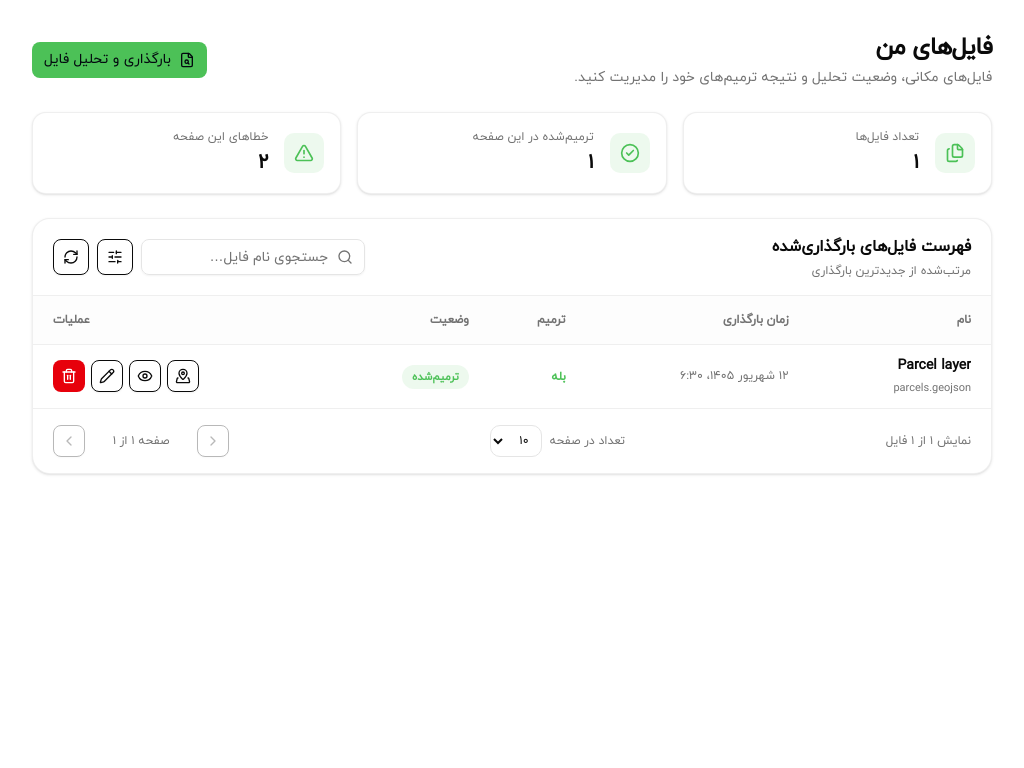
Scenario: FileManagementDashboard › shows a filtered empty state and clears the filters
Click the button named "فیلتر فایل‌ها" at (115, 257), box [97,239,133,275]
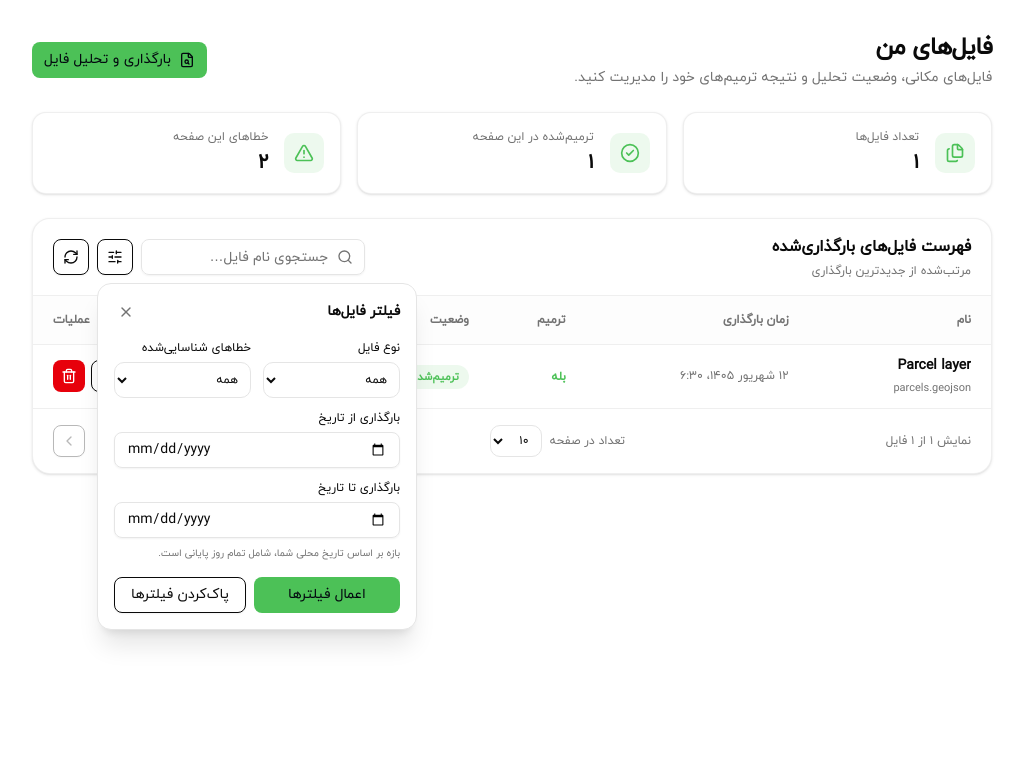
Select "KML" in the dropdown labelled "نوع فایل" at (332, 380), box [263,362,400,398]
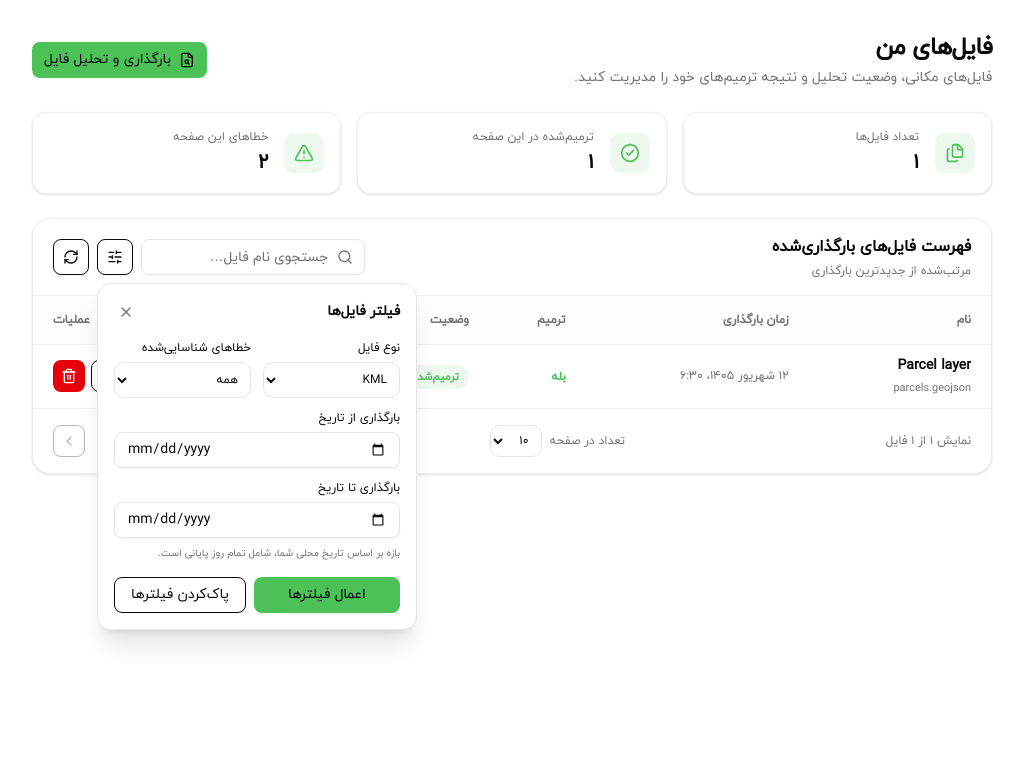
Click the button "اعمال فیلترها" at (327, 595), box [254,577,400,613]
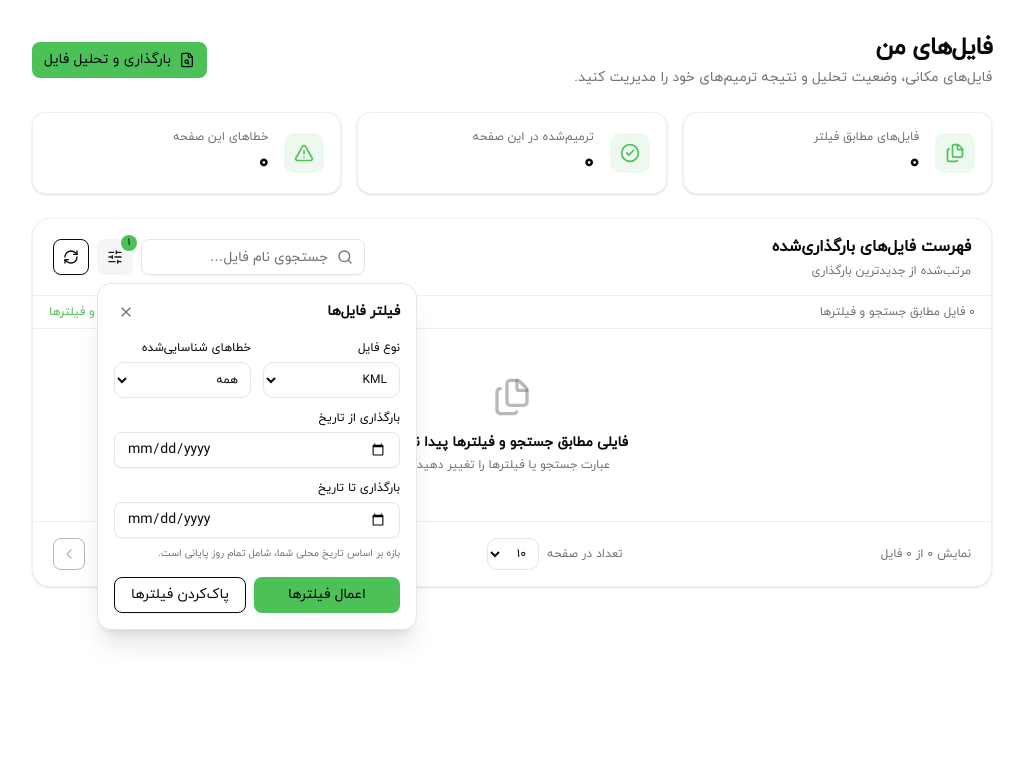
Result: the heading "فایلی مطابق جستجو و فیلترها پیدا نشد" is shown at [396,433,628,452]
Click the button "پاک‌کردن جستجو و فیلترها" at (116, 312), box [49,304,183,320]
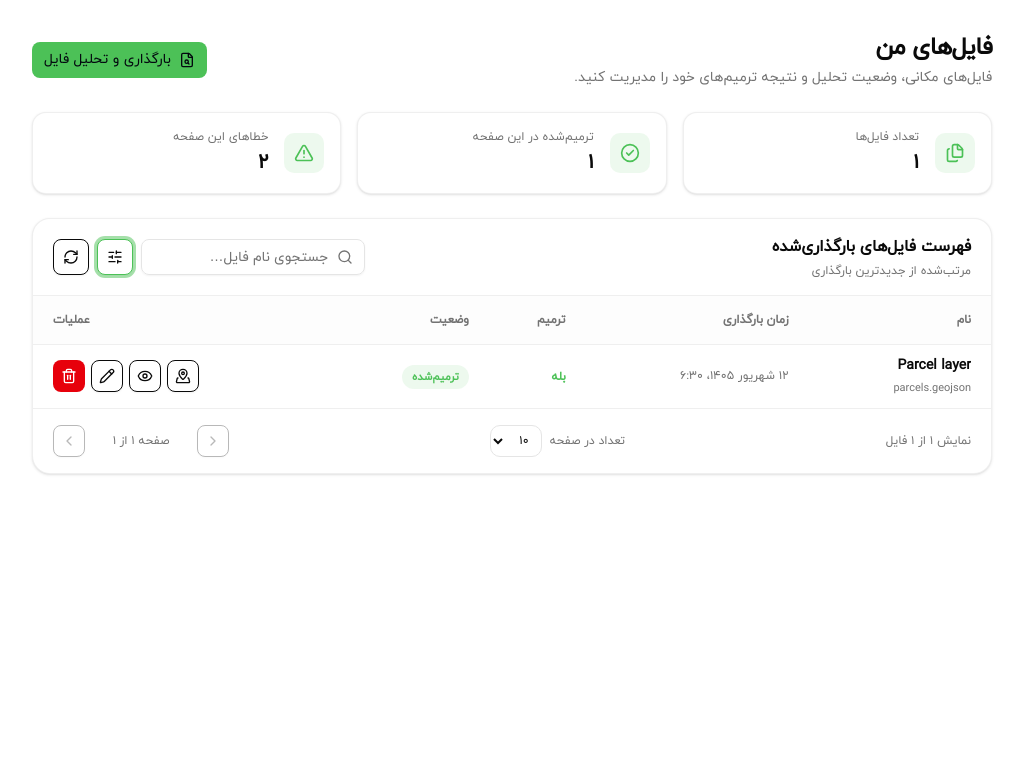
Result: the text "Parcel layer" is shown at [897,356,971,375]
